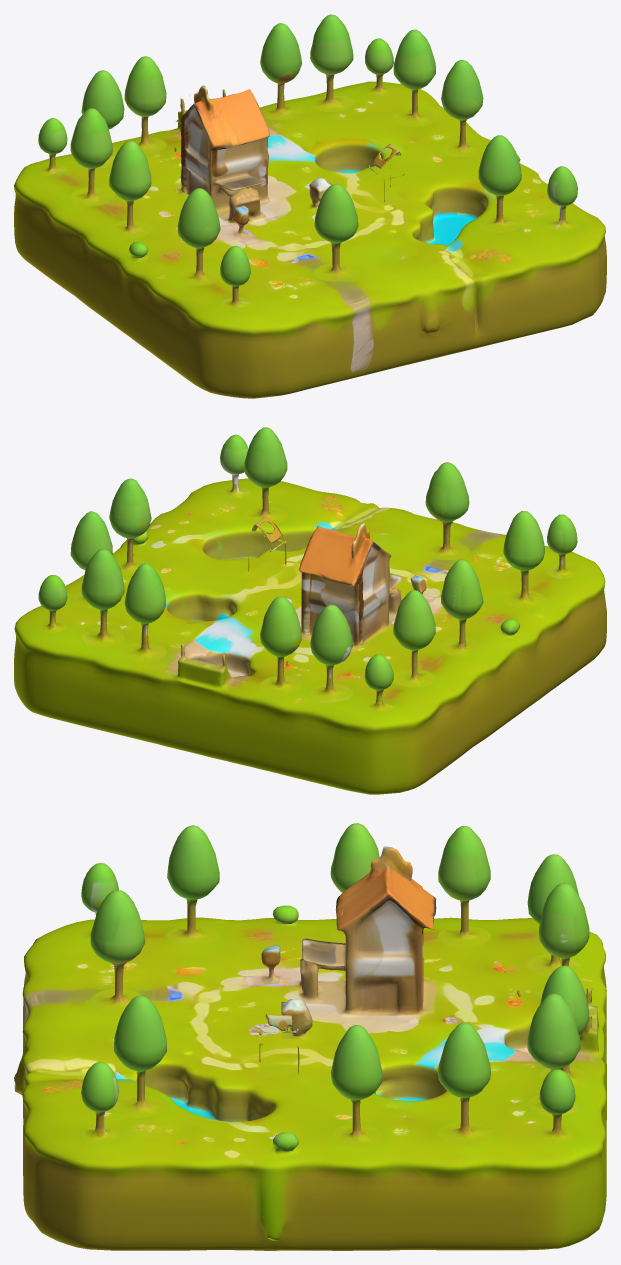
Rendered from clean-world-terrain.glb.
The picture shows the model from 3 angles, top to bottom: view 1: azimuth 30°, elevation 25°; view 2: azimuth 150°, elevation 25°; view 3: azimuth 270°, elevation 25°; orthographic projection. The views are drawn at different scales.
Visible parts, largest first — view 1: model; view 2: model; view 3: model.
Boxes of the visible parts, left/top/right/bottom form: model: left=14, top=14, right=606, bottom=398; model: left=14, top=427, right=606, bottom=794; model: left=14, top=823, right=606, bottom=1250.
Bounding box in the file's own units: 1.89 × 0.8421 × 1.89.
1 material, 1 textured.
